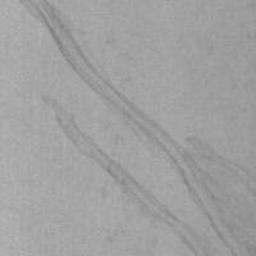Water spot: (13, 0, 256, 256), (41, 97, 215, 256)
